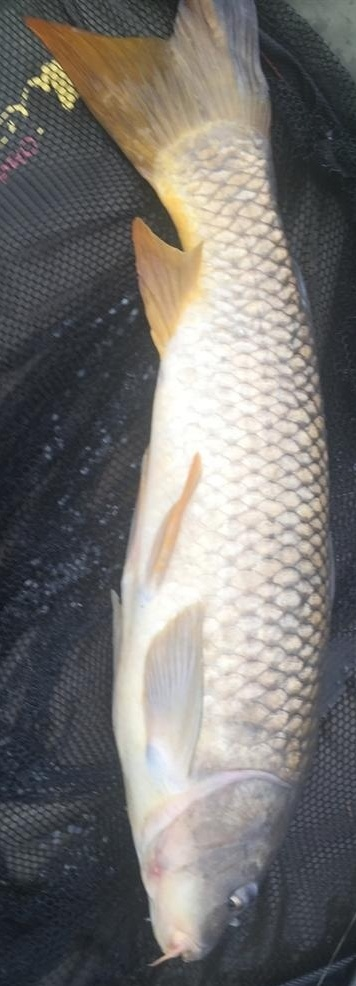Cyprinus carpio: (20, 1, 336, 966)
